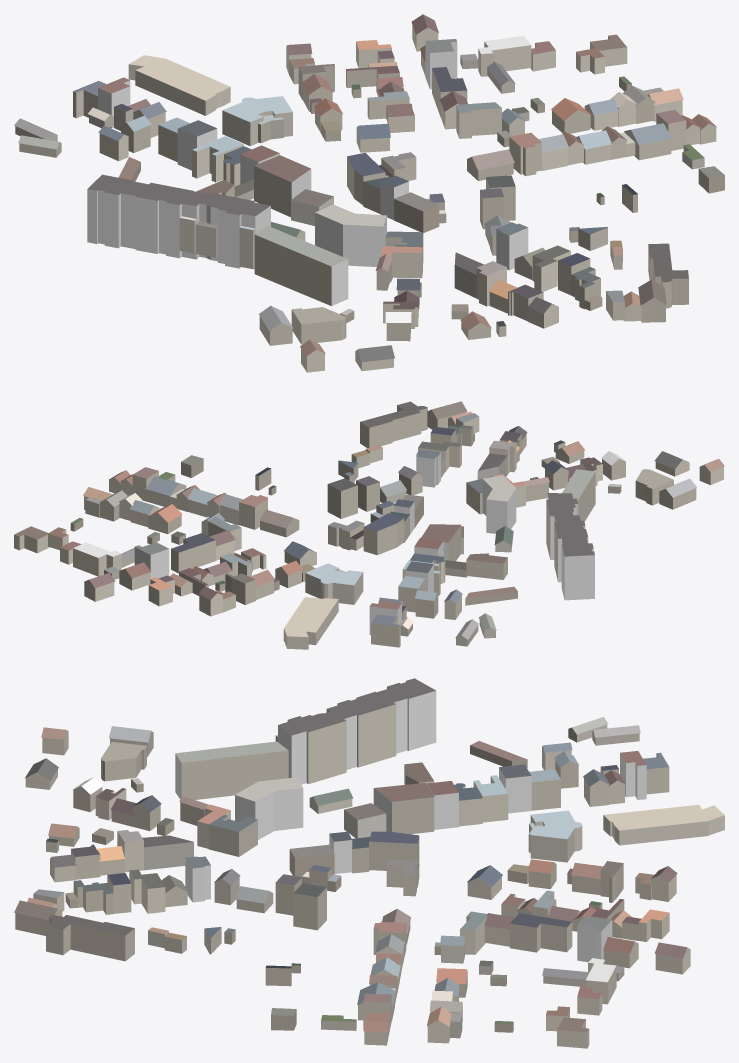
3 renders of one model, top to bottom at view 1: azimuth 30°, elevation 25°; view 2: azimuth 150°, elevation 25°; view 3: azimuth 270°, elevation 25°, orthographic. The views are drawn at different scales.
Parts seen in each view (by area): view 1: tuile; view 2: tuile; view 3: tuile.
Part boxes in pixels (x1,y1,x2,y2): tuile: (14,14,724,372); tuile: (14,401,724,649); tuile: (14,678,724,1048).
Bounding box in the file's own units: 273 × 35.91 × 279.
